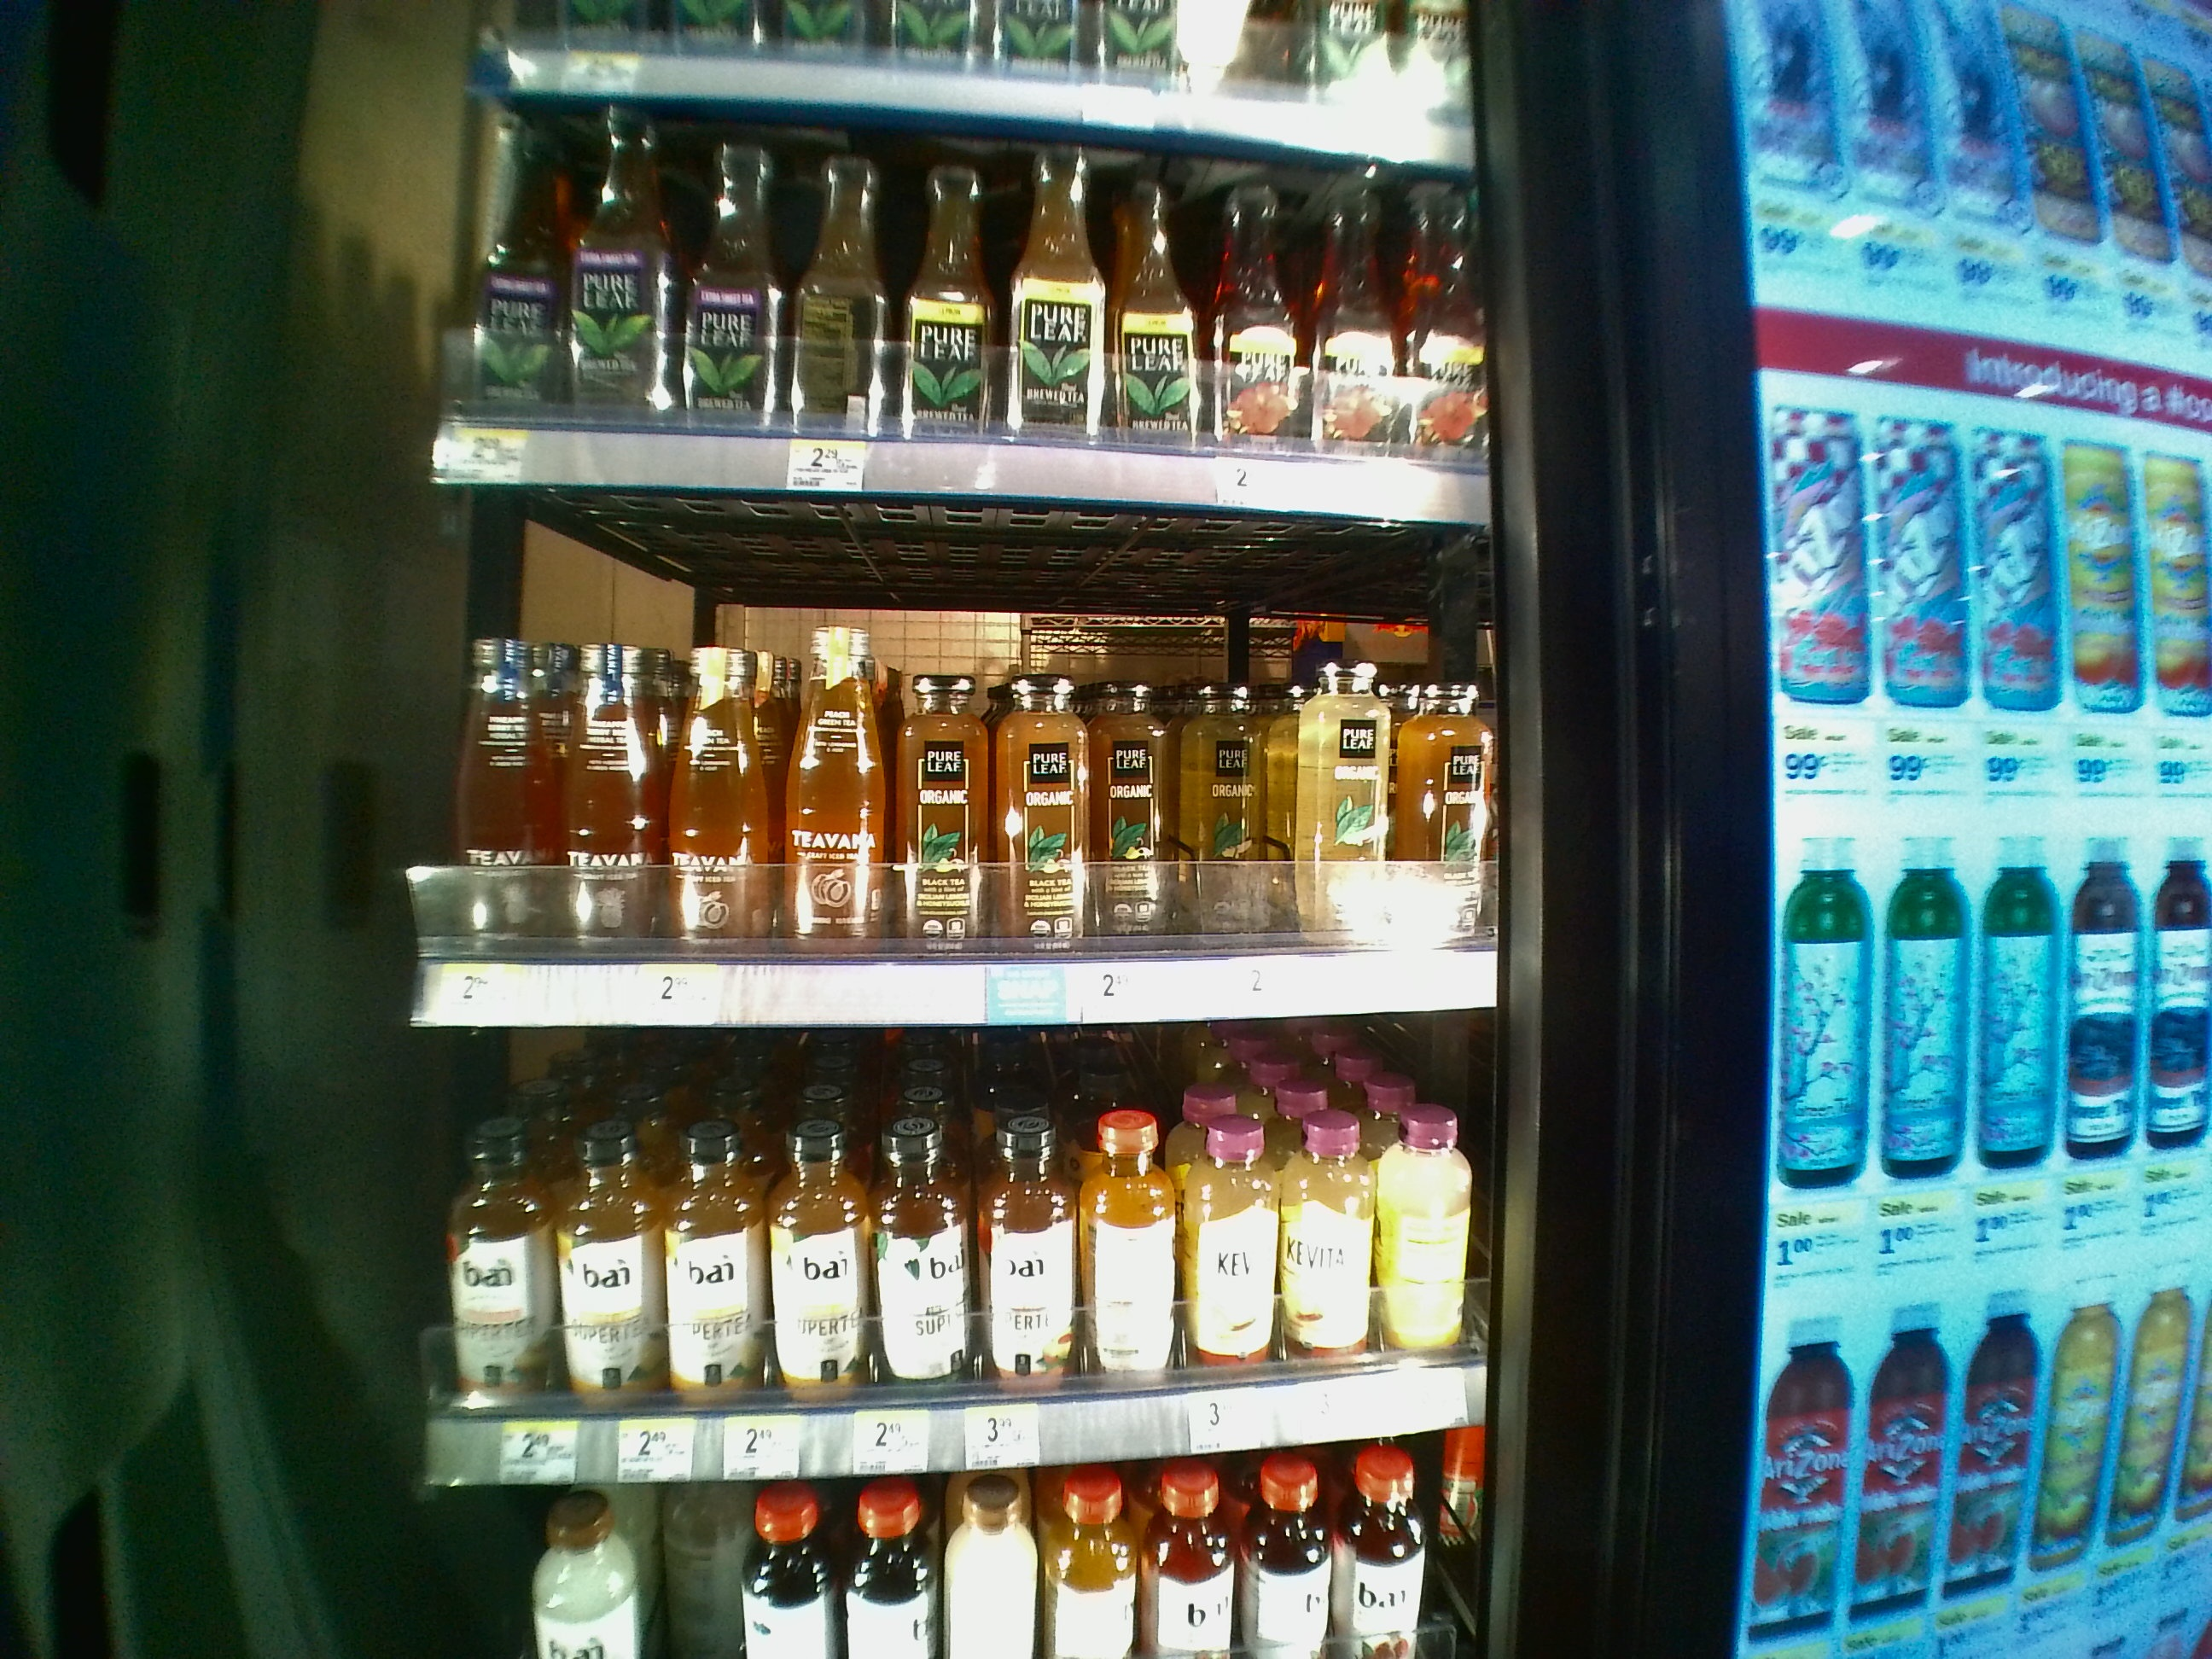shelf: (409, 488, 1498, 1023), (416, 1040, 1496, 1490)
